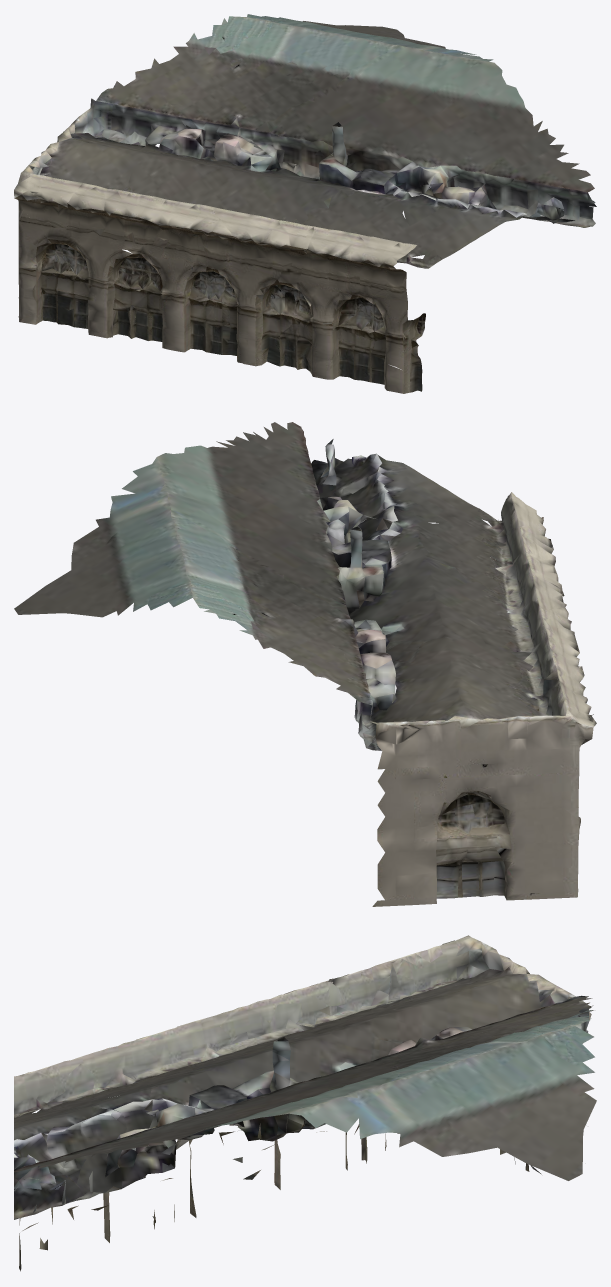
3 renders of one model, top to bottom at view 1: azimuth 30°, elevation 25°; view 2: azimuth 150°, elevation 25°; view 3: azimuth 270°, elevation 25°, orthographic. The views are drawn at different scales.
Bounding box in the file's own units: 26.5 × 12.34 × 23.92.
1 material, 1 textured.
